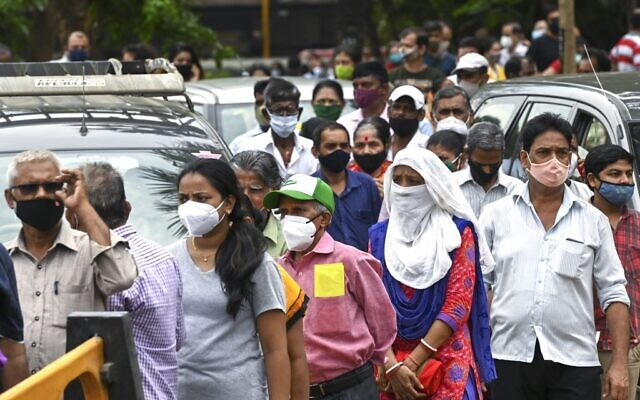with_incorrect_mask: (598, 158, 634, 204), (356, 132, 385, 171), (389, 98, 418, 135)
with_mask: (16, 170, 63, 232), (178, 178, 221, 239), (275, 201, 319, 253), (534, 130, 569, 187), (390, 164, 425, 211), (320, 129, 349, 173), (269, 95, 296, 136)
